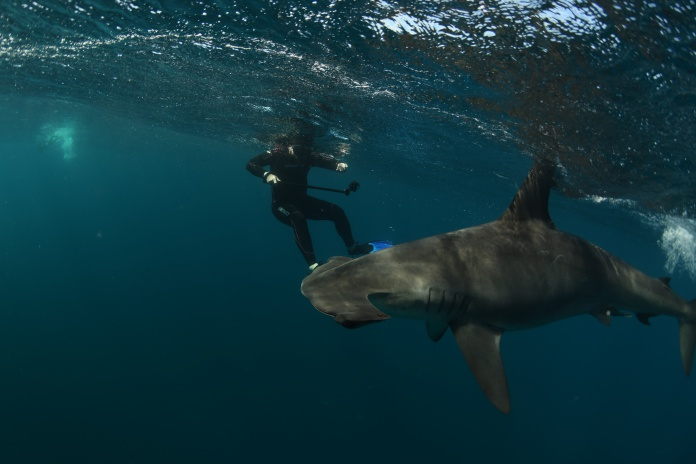Hammer: (276, 143, 696, 406)
